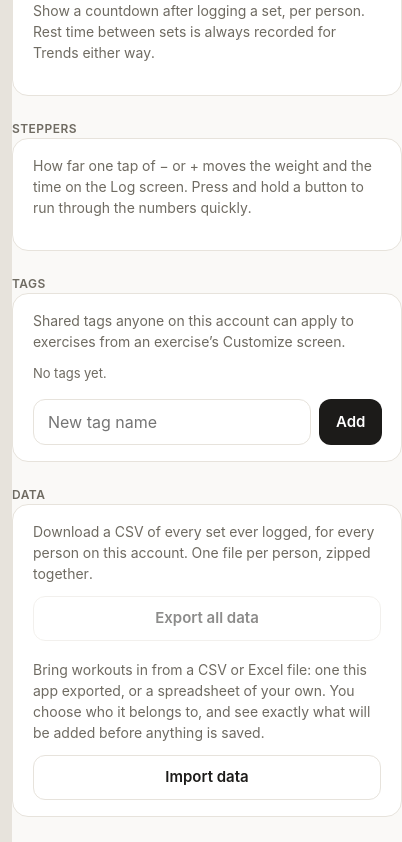
Test: AppSettingsTab tag management › shows an error and does not add a tag when the name is blank
(page scrolled)
Step 1. Click the button "Add" → (351, 422), box x1=319 y1=399 x2=382 y2=445
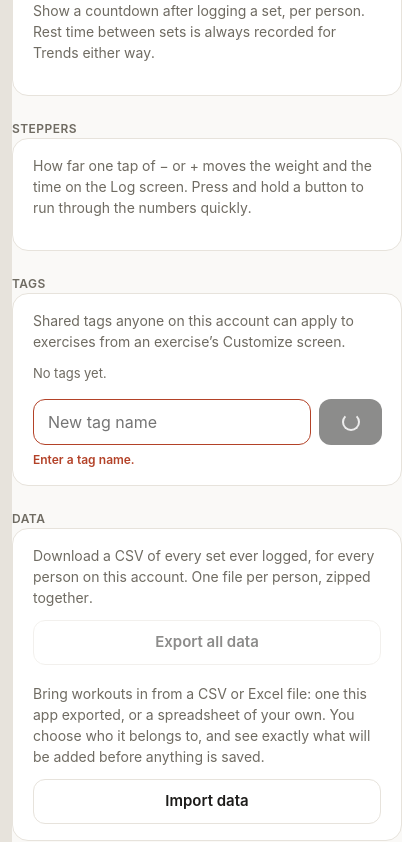
Expected: the text "Enter a tag name." is shown, x1=33 y1=452 x2=134 y2=467
Step 2. Type "Legs" into the field with placeholder "New tag name" → (172, 422), box x1=33 y1=399 x2=311 y2=445
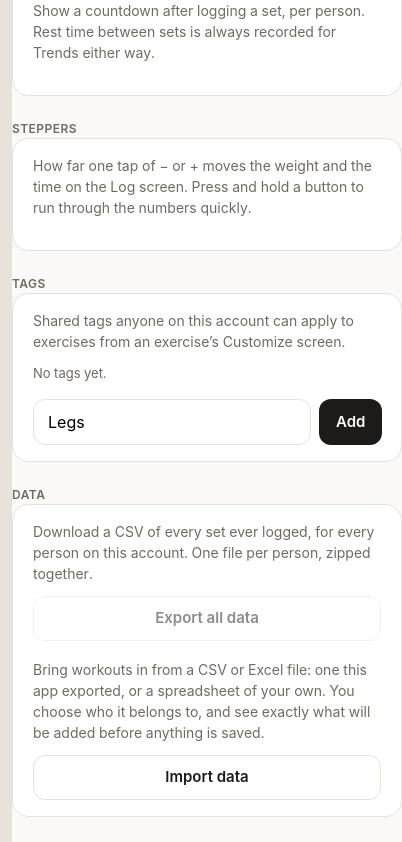
Expected: the text "Enter a tag name." is gone
